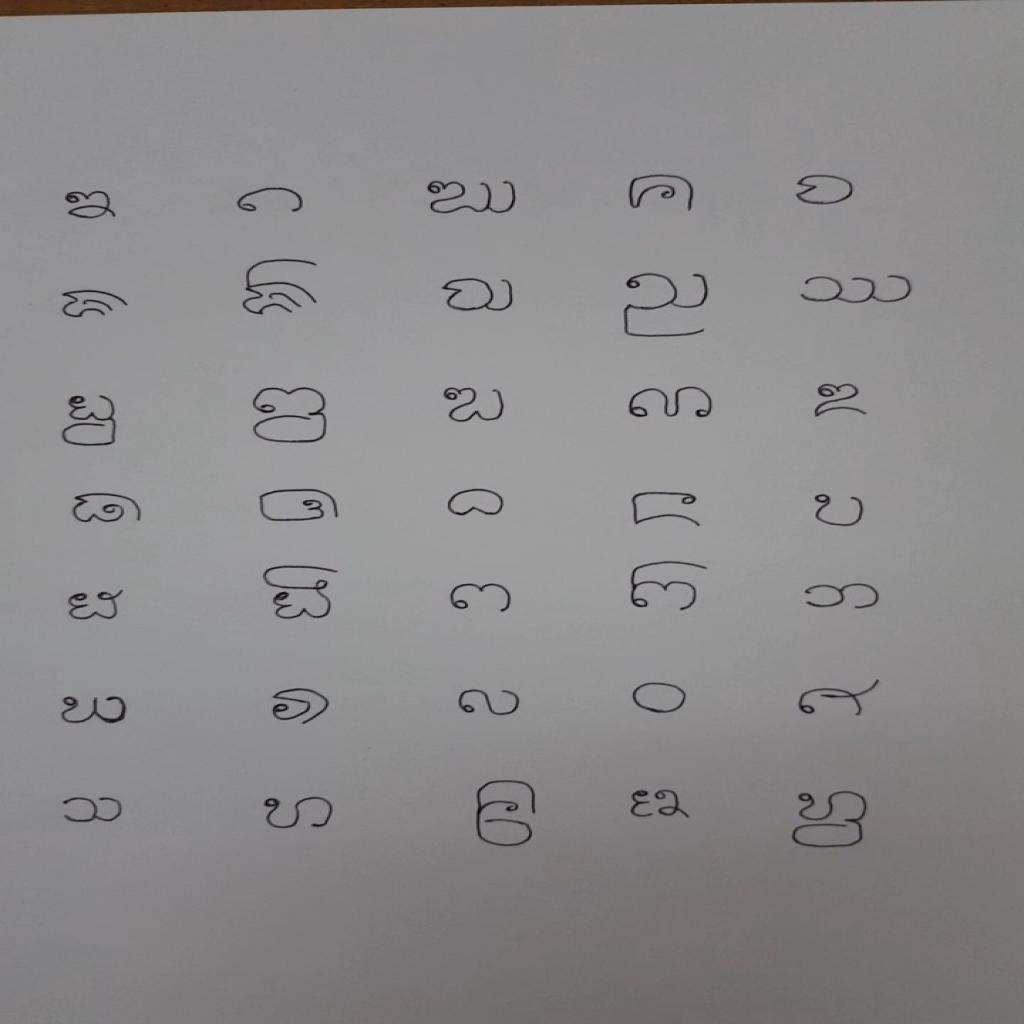LN002: (59, 189, 122, 225)
LN003: (231, 184, 314, 218)
LN004: (421, 176, 526, 218)
LN005: (621, 171, 705, 218)
LN006: (788, 169, 864, 210)
LN008: (56, 287, 136, 322)
LN009: (238, 255, 328, 322)
LN010: (437, 275, 526, 317)
LN011: (618, 270, 720, 343)
LN012: (793, 271, 923, 310)
LN014: (53, 391, 127, 452)
LN015: (244, 382, 338, 450)
LN016: (439, 384, 515, 428)
LN017: (622, 383, 724, 424)
LN018: (807, 380, 878, 423)
LN020: (64, 489, 153, 529)
LN021: (252, 484, 351, 528)
LN022: (441, 486, 515, 521)
LN023: (623, 487, 711, 533)
LN024: (807, 490, 874, 532)
LN026: (62, 587, 132, 624)
LN027: (256, 562, 349, 625)
LN028: (445, 580, 522, 619)
LN029: (624, 557, 716, 618)
LN030: (797, 581, 890, 615)
LN032: (53, 693, 137, 731)
LN033: (264, 685, 339, 731)
LN034: (453, 686, 530, 721)
LN035: (625, 679, 698, 719)
LN036: (791, 674, 890, 722)
LN038: (57, 792, 131, 828)
LN039: (255, 793, 342, 835)
LN040: (469, 776, 546, 852)
LN041: (623, 785, 700, 825)
LN042: (785, 787, 881, 855)
